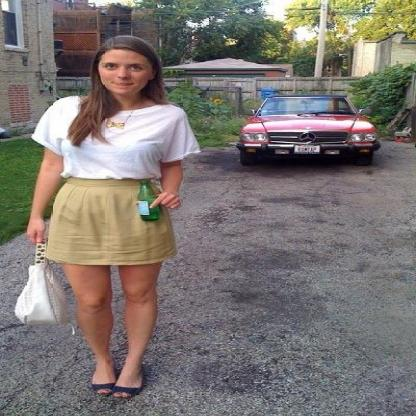bag: (13, 243, 77, 338)
shirt: (31, 96, 200, 178)
shoe: (92, 374, 147, 400)
skirt: (46, 175, 176, 274)
